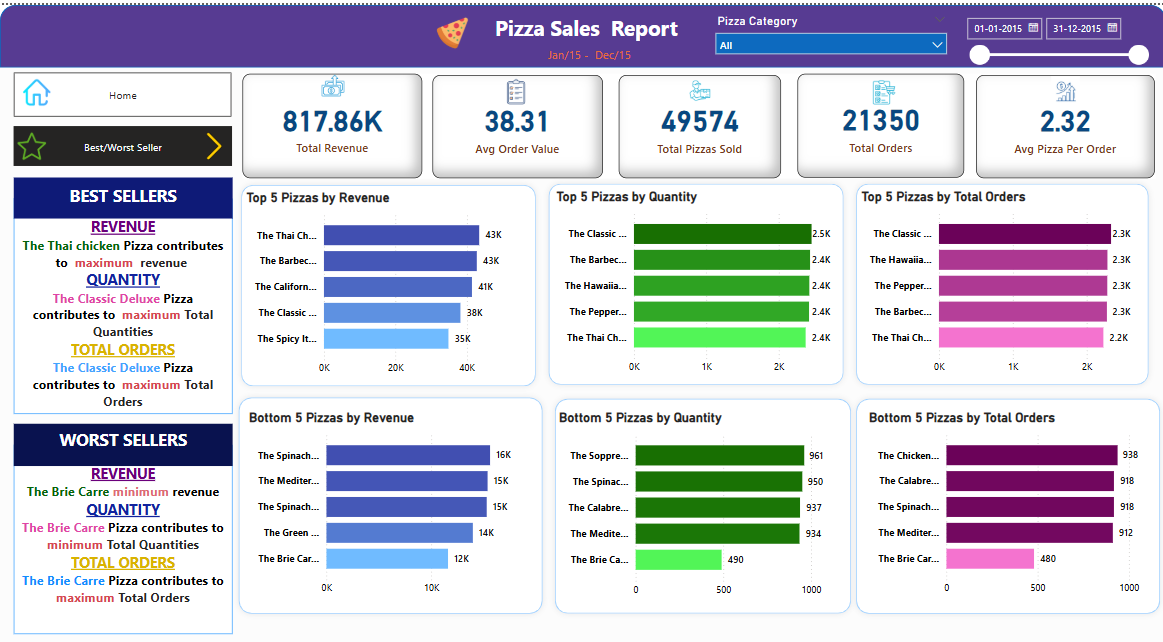

What the dashboard file says about the page in this screenshot:
{"tool":"powerbi","page":{"name":"Best/Worst Seller","canvas":[1500,820],"ordinal":1},"visuals":[{"type":"card","fields":{"Values":["pizza_sales.Total Revenue"]},"box":[312,89,231.4,134.5],"z":0,"group":"g1"},{"type":"group","id":"g1","title":"Group 1","box":[312,88.4,1173.9,135.1],"z":0},{"type":"shape","box":[0,0,1500.3,80.4],"z":1000},{"type":"card","fields":{"Values":["pizza_sales.Avg Order Value"]},"box":[556.9,89.4,219.2,133],"z":1000,"group":"g1"},{"type":"card","fields":{"Values":["pizza_sales.Total Pizzas Sold"]},"box":[796.4,89.4,209,133],"z":2000,"group":"g1"},{"type":"image","box":[397.2,82,62.7,43.4],"z":2000},{"type":"card","fields":{"Values":["pizza_sales.Avg Pizza Per Order"]},"box":[1256.6,89.4,229.3,133],"z":3000,"group":"g1"},{"type":"image","box":[1108,91.7,59.5,41.8],"z":3000},{"type":"card","fields":{"Values":["pizza_sales.Total Orders"]},"box":[1026.6,88.4,214.4,133.6],"z":4000,"group":"g1"},{"type":"image","box":[874.8,91.7,51.5,37],"z":4000},{"type":"image","box":[633.6,90.1,61.1,43.4],"z":5000},{"type":"image","box":[1342.7,86.8,56.3,46.6],"z":6000},{"type":"shape","box":[302.3,223.5,395,275],"z":7000},{"type":"textbox","box":[17.7,249.3,281.4,276.6],"z":15000},{"type":"textbox","box":[17.7,566,281.4,242.8],"z":18000},{"type":"textbox","box":[17.7,221.9,281.4,53.1],"z":19000},{"type":"textbox","box":[17.7,538.7,281.4,54.7],"z":20000},{"type":"slicer","fields":{"Values":["pizza_sales.pizza_category"]},"box":[910.2,6.4,318.4,67.5],"z":21000},{"type":"slicer","fields":{"Values":["pizza_sales.order_date"]},"box":[1231.8,6.4,254.1,80.4],"z":22000},{"type":"textbox","box":[617.5,6.4,273.4,61.1],"z":23000},{"type":"image","box":[556.4,8,51.5,56.3],"z":24000},{"type":"textbox","box":[667.3,48.2,181.7,32.2],"z":25000},{"type":"shape","box":[697.9,221.9,395.6,275],"z":25001},{"type":"shape","box":[1093.5,221.9,392.4,275],"z":25002},{"type":"shape","box":[299.1,496.9,406.8,294.3],"z":25003},{"type":"shape","box":[705.9,498.5,397.2,292.7],"z":25004},{"type":"shape","box":[1093.5,498.5,406.8,292.7],"z":25005},{"type":"barChart","title":"Top 5 Pizzas by Revenue","fields":{"Category":["pizza_sales.pizza_name"],"Y":["pizza_sales.Total Revenue"]},"box":[312,238,369.9,247.6],"z":25006},{"type":"barChart","title":"Bottom 5 Pizzas by Revenue","fields":{"Category":["pizza_sales.pizza_name"],"Y":["pizza_sales.Total Revenue"]},"box":[315.2,521,369.9,247.6],"z":25007},{"type":"barChart","title":"Top 5 Pizzas by Quantity","fields":{"Category":["pizza_sales.pizza_name"],"Y":["pizza_sales.Total Pizzas Sold"]},"box":[710.8,236.4,369.9,247.6],"z":25008},{"type":"barChart","title":"Bottom 5 Pizzas by Quantity","fields":{"Category":["pizza_sales.pizza_name"],"Y":["pizza_sales.Total Pizzas Sold"]},"box":[714,521,363.4,249.3],"z":25009},{"type":"barChart","title":"Top 5 Pizzas by Total Orders","fields":{"Category":["pizza_sales.pizza_name"],"Y":["pizza_sales.Total Orders"]},"box":[1103.1,236.4,369.9,247.6],"z":25010},{"type":"barChart","title":"Bottom 5 Pizzas by Total  Orders","fields":{"Category":["pizza_sales.pizza_name"],"Y":["pizza_sales.Total Orders"]},"box":[1112.8,521,369.9,247.6],"z":25011},{"type":"pageNavigator","box":[17.7,156,281.4,51.5],"z":25012},{"type":"pageNavigator","box":[17.7,86.8,281.4,57.9],"z":25013},{"type":"image","box":[17.7,90.1,59.5,45],"z":25014},{"type":"image","box":[252.5,159.2,46.6,45],"z":25015},{"type":"image","box":[17.7,156,46.6,51.5],"z":25016}]}

Visuals, with their boxes in screenshot pixels (x1, y1, x2, y2), scaled from the page's 1500x820 canvas onto the 1163x642 screenshot:
card - pizza_sales.Total Revenue: 242,70,421,175
"Group 1" group: 242,69,1152,175
shape: 0,0,1162,63
card - pizza_sales.Avg Order Value: 432,70,602,174
card - pizza_sales.Total Pizzas Sold: 617,70,780,174
image: 308,64,357,98
card - pizza_sales.Avg Pizza Per Order: 974,70,1152,174
image: 859,72,905,105
card - pizza_sales.Total Orders: 796,69,962,174
image: 678,72,718,101
image: 491,71,539,105
image: 1041,68,1085,104
shape: 234,175,541,390
textbox: 14,195,232,412
textbox: 14,443,232,633
textbox: 14,174,232,215
textbox: 14,422,232,465
slicer - pizza_sales.pizza_category: 706,5,953,58
slicer - pizza_sales.order_date: 955,5,1152,68
textbox: 479,5,691,53
image: 431,6,471,50
textbox: 517,38,658,63
shape: 541,174,848,389
shape: 848,174,1152,389
shape: 232,389,547,619
shape: 547,390,855,619
shape: 848,390,1162,619
"Top 5 Pizzas by Revenue" barChart: 242,186,529,380
"Bottom 5 Pizzas by Revenue" barChart: 244,408,531,602
"Top 5 Pizzas by Quantity" barChart: 551,185,838,379
"Bottom 5 Pizzas by Quantity" barChart: 554,408,835,603
"Top 5 Pizzas by Total Orders" barChart: 855,185,1142,379
"Bottom 5 Pizzas by Total  Orders" barChart: 863,408,1150,602
pageNavigator: 14,122,232,162
pageNavigator: 14,68,232,113
image: 14,71,60,106
image: 196,125,232,160
image: 14,122,50,162
